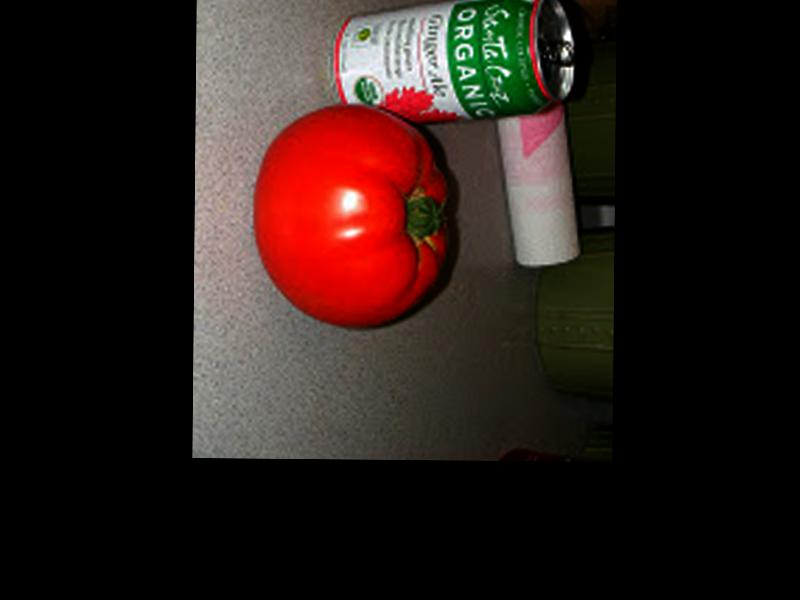Tomato: (254, 106, 447, 326)
